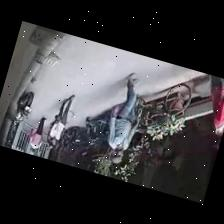person: (107, 73, 139, 162), (49, 95, 73, 144), (210, 75, 223, 138), (29, 116, 45, 151)
